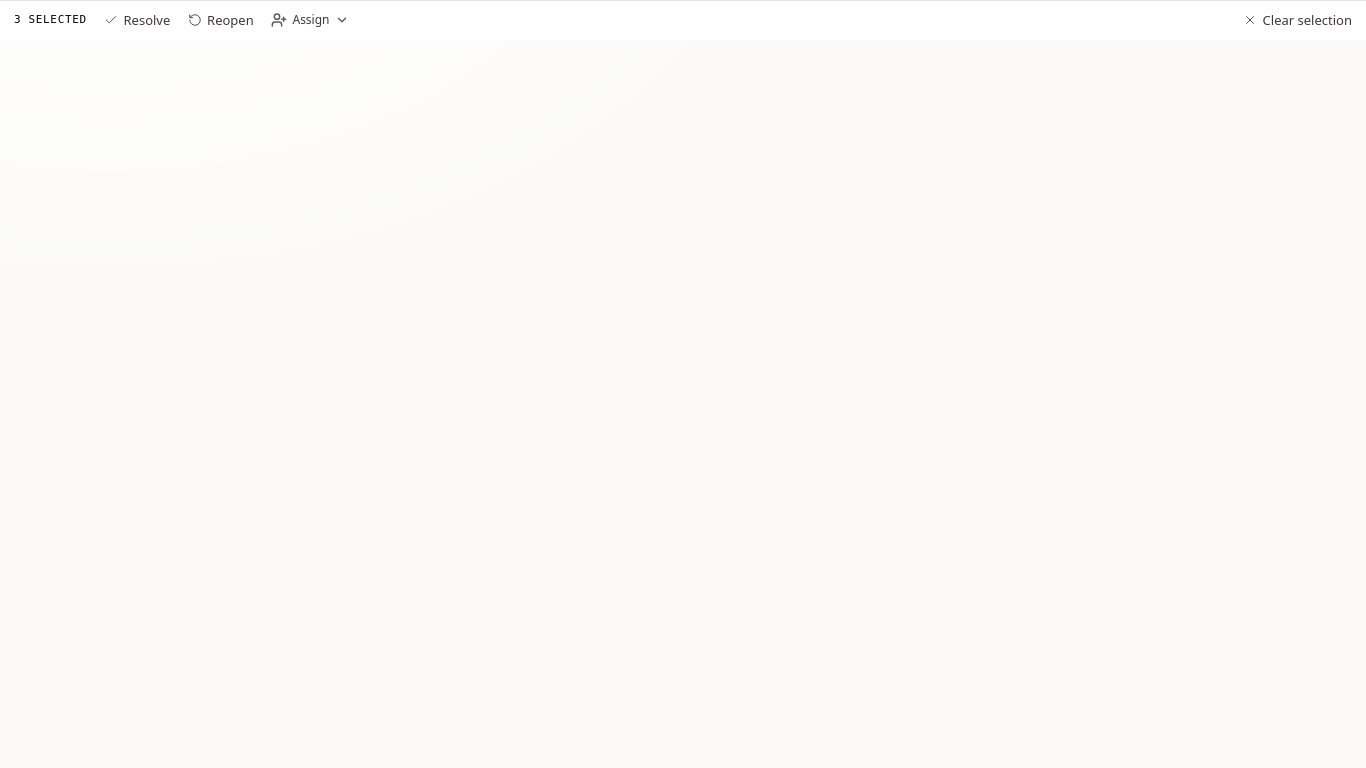
it: BulkBar › resolves every selected open item and reports the count
The width and height of the screenshot is (1366, 768).
What coordinates should you click on to do the following:
click the button "Resolve"
I would click on:
 (137, 20)
Its box is left=97, top=4, right=177, bottom=36.
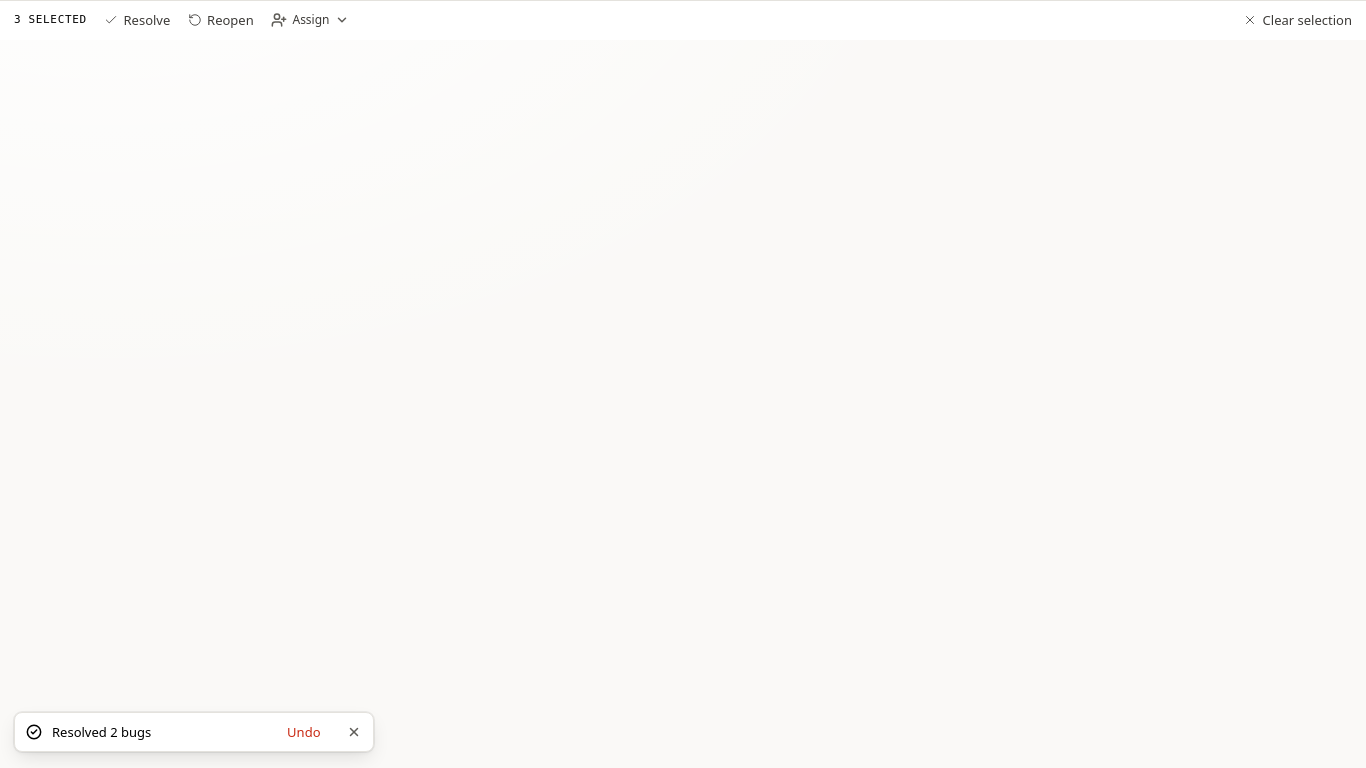
Expected: the message shows "Resolved 2 bugs", left=52, top=723, right=151, bottom=741
